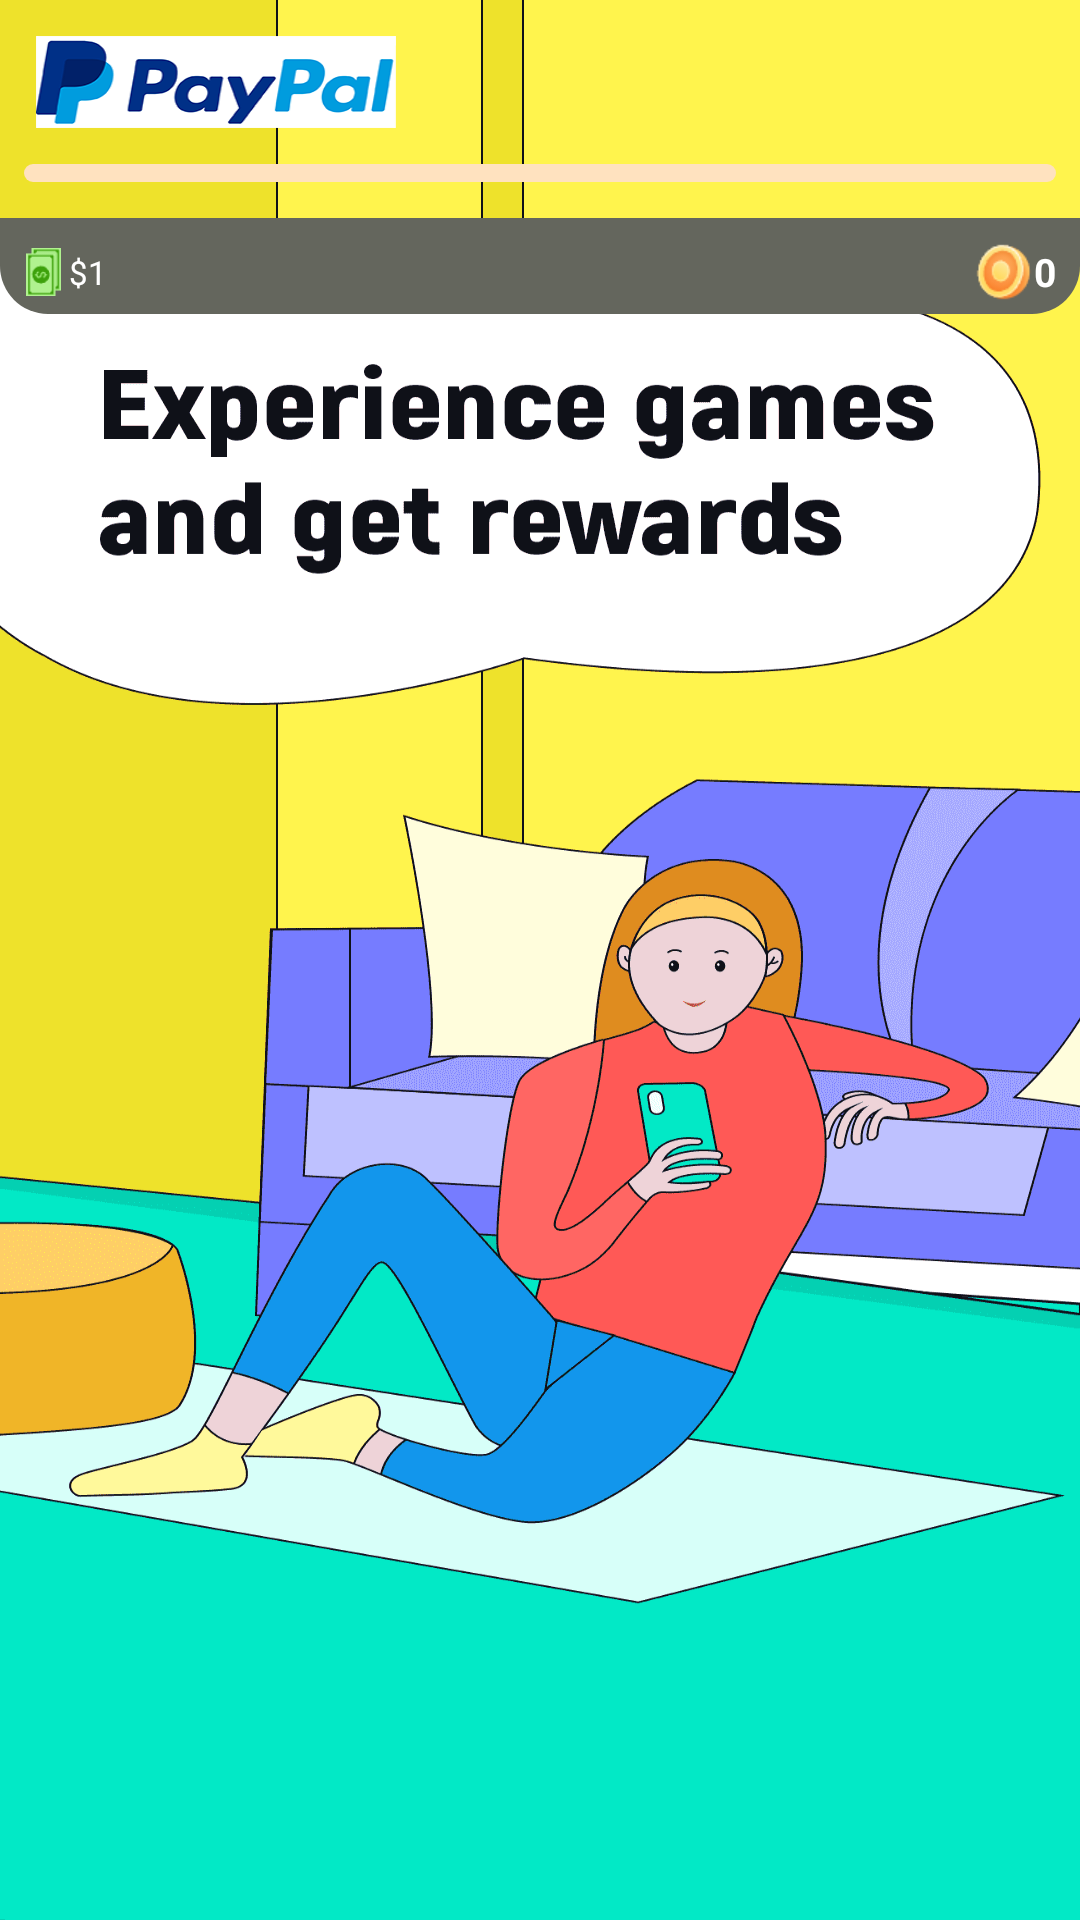

Where icons sit on this 1080 x 1920 app screen, as (x1, y1, x2, y2):
coin: (977, 244, 1030, 299)
